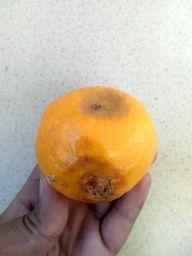Unripe: (35, 85, 159, 203)
